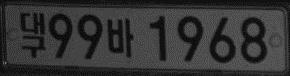1: (148, 16, 174, 62)
6: (208, 15, 236, 63)
8: (240, 16, 268, 63)
9: (176, 15, 204, 62), (48, 12, 74, 58), (77, 13, 103, 59)
대구_V: (19, 11, 47, 59)
바: (106, 17, 134, 58)
